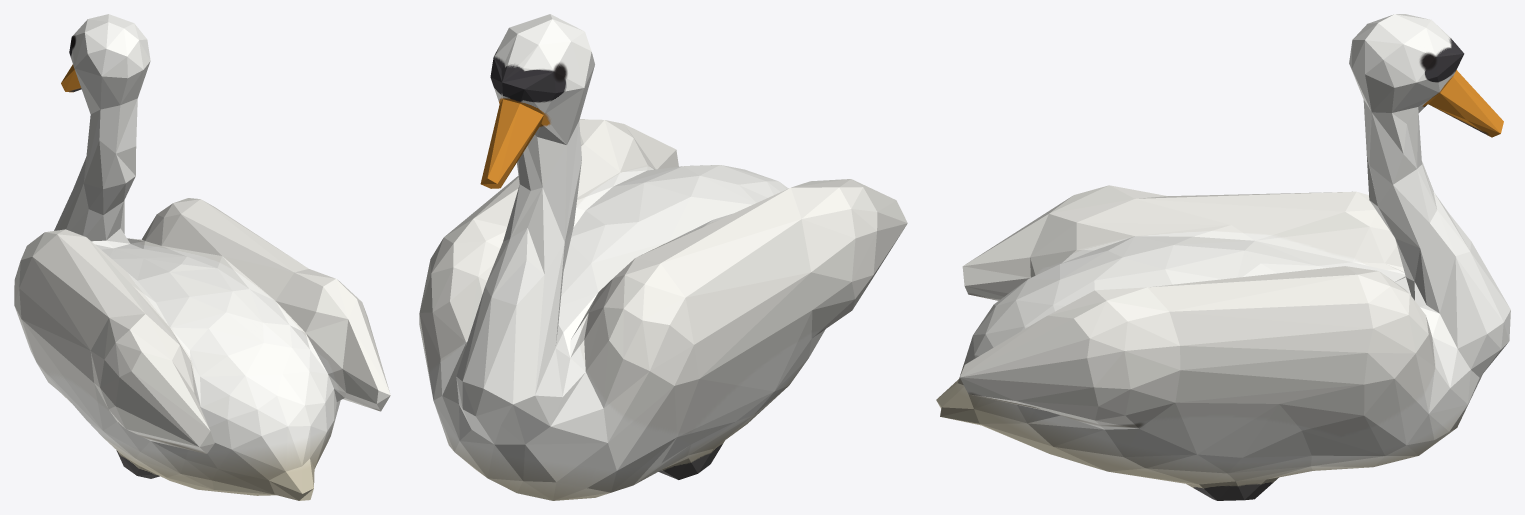
Rendered from animal_swan_blob.obj.
The picture shows the model from 3 angles, left to right: view 1: azimuth 30°, elevation 25°; view 2: azimuth 150°, elevation 25°; view 3: azimuth 270°, elevation 25°; orthographic projection. The views are drawn at different scales.
Visible parts, largest first — view 1: animal_swan_blob; view 2: animal_swan_blob; view 3: animal_swan_blob.
Boxes of the visible parts, x1,y1,x2,y2 form: animal_swan_blob: (14,14,390,500); animal_swan_blob: (419,14,907,500); animal_swan_blob: (936,14,1510,500).
Bounding box in the file's own units: 0.4683 × 0.7045 × 0.7923.
